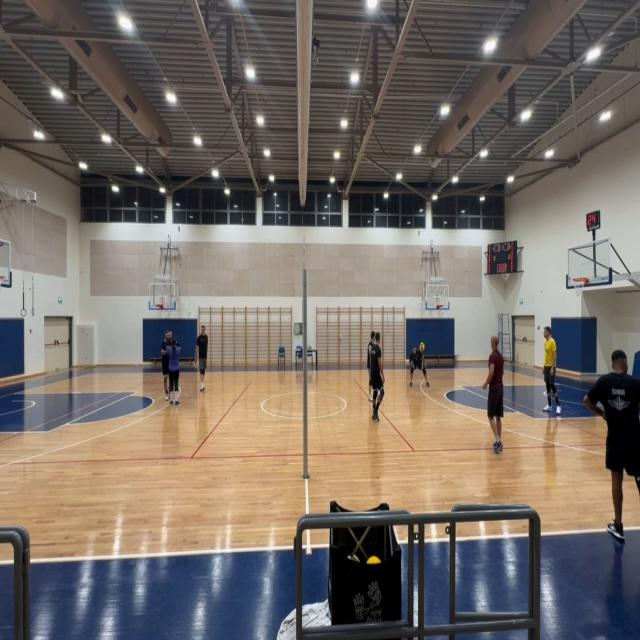volleyball: (419, 342, 425, 352)
